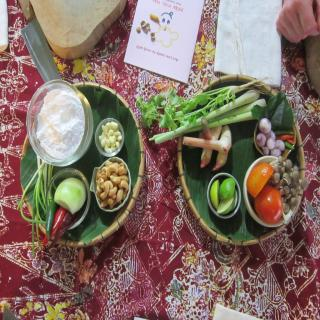tomato: (254, 186, 282, 230), (247, 162, 274, 197)
